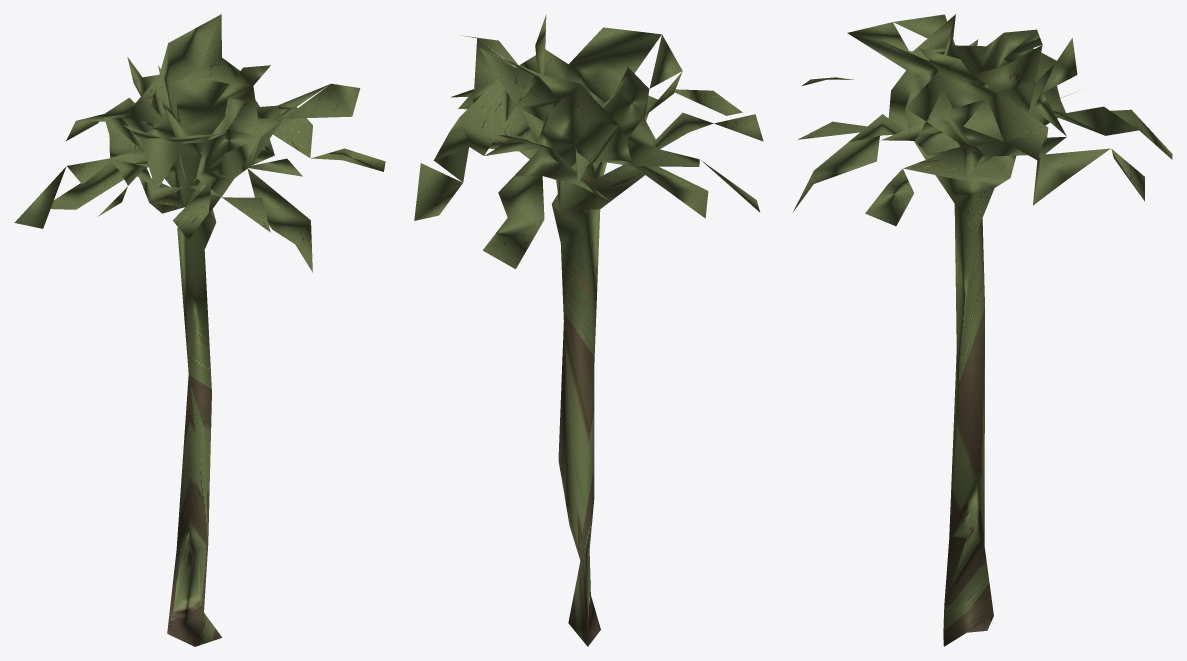
The model's file is palm2_lod1.glb.
The picture shows the model from 3 angles, left to right: view 1: azimuth 30°, elevation 25°; view 2: azimuth 150°, elevation 25°; view 3: azimuth 270°, elevation 25°; orthographic projection. The views are drawn at different scales.
Size of the model in its own units: 1.09 by 1.8 by 0.9883.
Materials: 1 (1 with a texture image).
